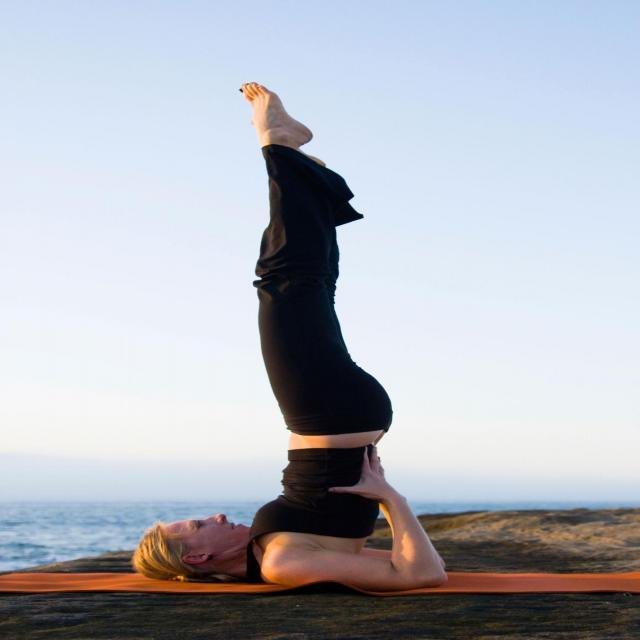yoga-pose shoulderstand: (132, 83, 449, 589)
